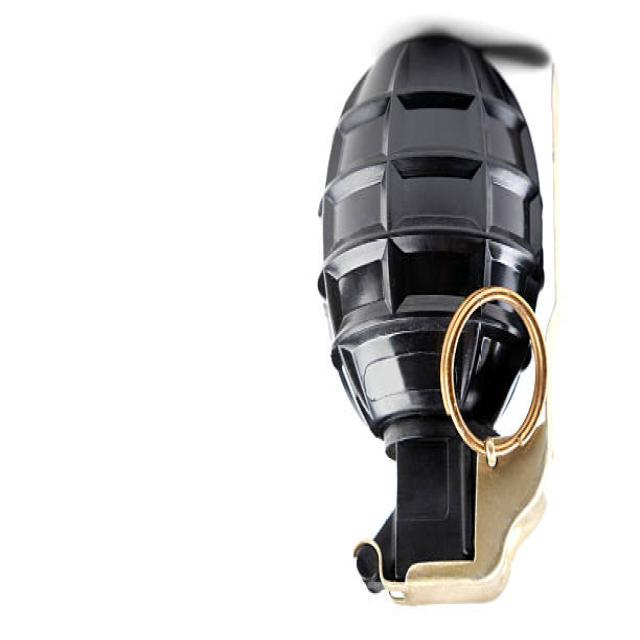grenade: (309, 29, 574, 621)
